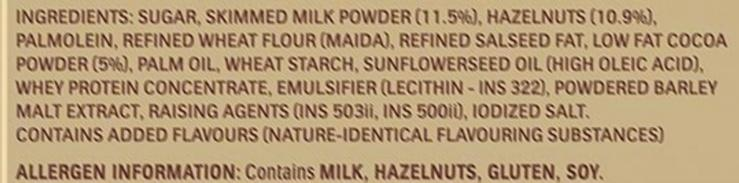ingredients: (10, 4, 731, 156)
